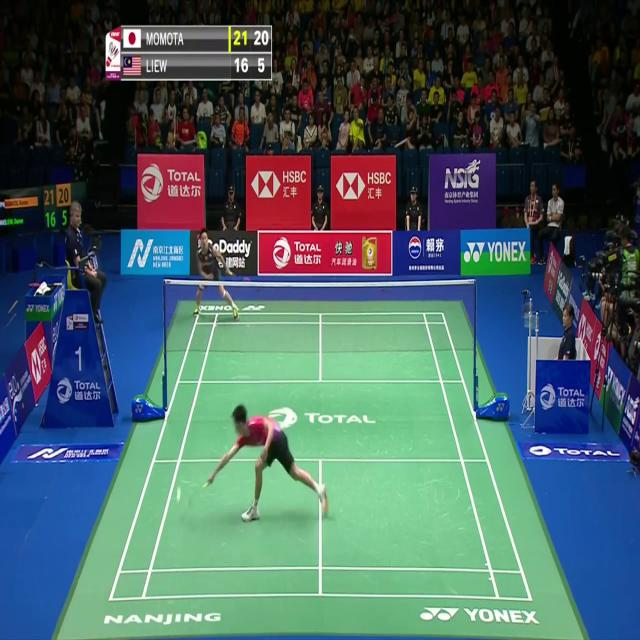Shuttlecock: (175, 490, 182, 502)
